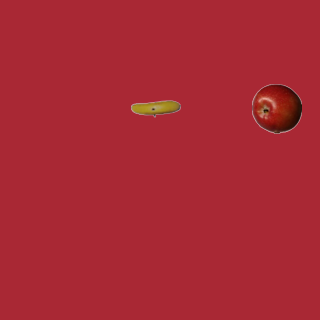Apple Braeburn: (251, 83, 301, 133)
Banana: (130, 83, 180, 133)
